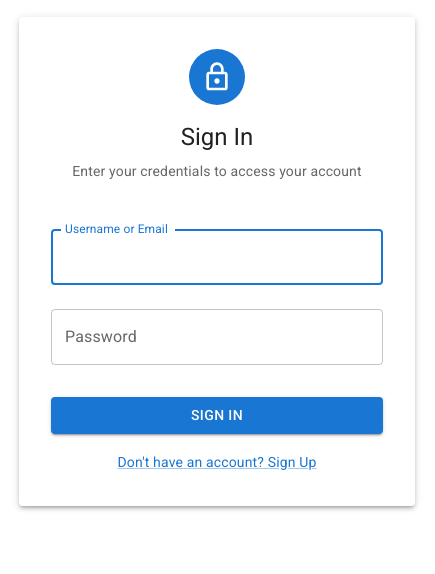
Test: LoginPage › displays validation errors for invalid inputs
Note: Touch fields and blur to trigger validation
In the field labelled "Username or Email": (217, 257) x1=51 y1=229 x2=383 y2=285, type "someone"
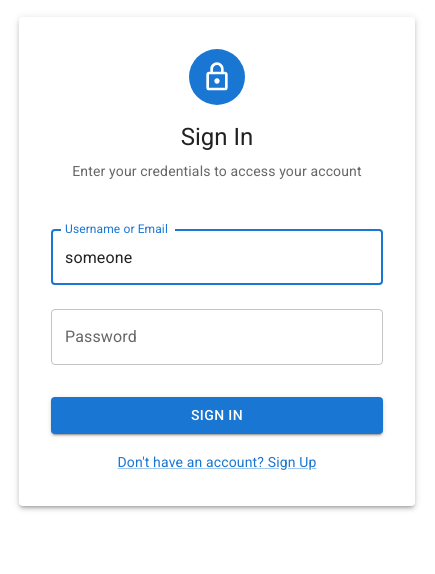
Clear the field labelled "Username or Email": (217, 257) x1=51 y1=229 x2=383 y2=285
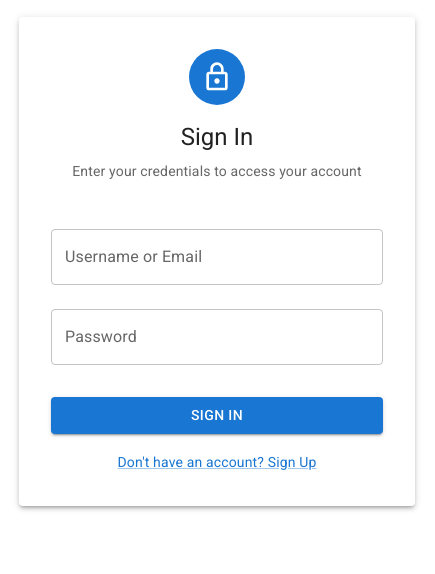
In the password field labelled "Password": (217, 337) x1=51 y1=309 x2=383 y2=365, type "123"
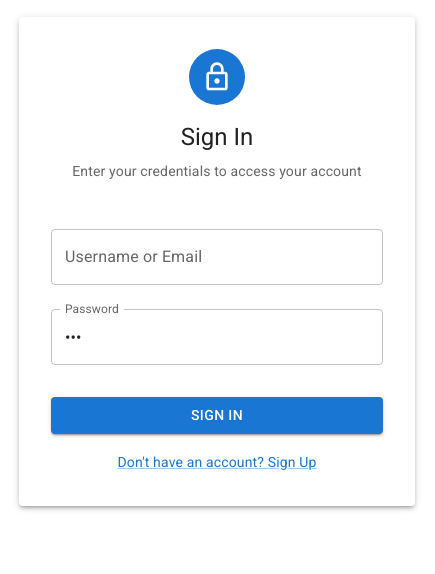
Leave the password field labelled "Password", box x1=51 y1=309 x2=383 y2=365
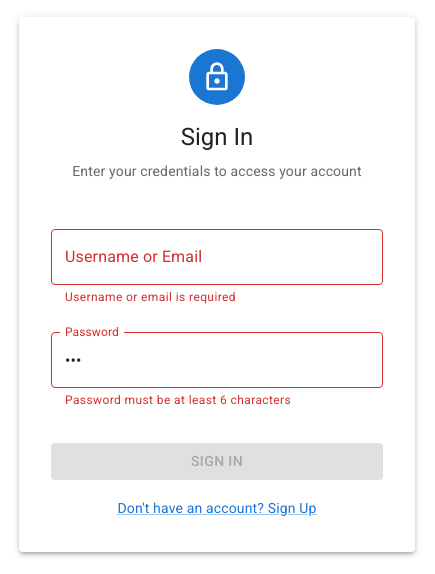
Expected: the text "Username or email is required" is shown, x1=65 y1=290 x2=236 y2=304
Expected: the text "Password must be at least 6 characters" is shown, x1=65 y1=393 x2=291 y2=407
